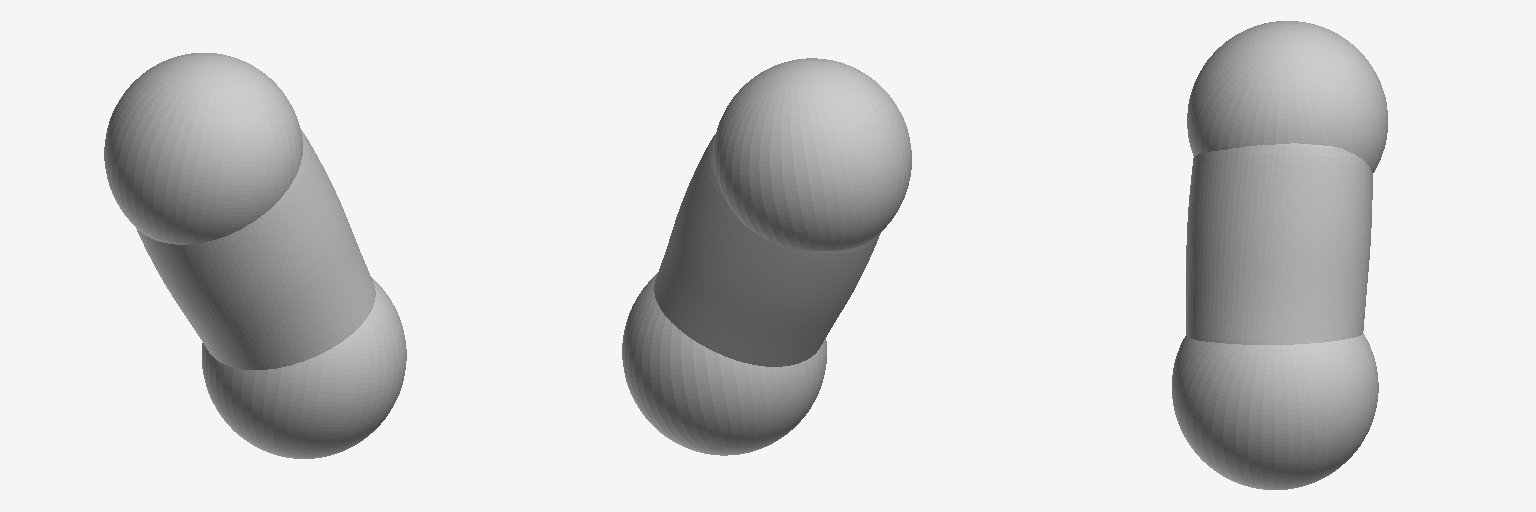
The model's file is uplegL.obj.
3 renders of one model, left to right at view 1: azimuth 30°, elevation 25°; view 2: azimuth 150°, elevation 25°; view 3: azimuth 270°, elevation 25°, orthographic.
Visible parts, largest first — view 1: uploads_files_[number redacted]_Guts_man:Mesh polySurface4, uploads_files_[number redacted]_Guts_man:Mesh polySurface1, polySurface18 uploads_files_[number redacted]_Guts_man:Mesh; view 2: uploads_files_[number redacted]_Guts_man:Mesh polySurface4, uploads_files_[number redacted]_Guts_man:Mesh polySurface1, polySurface18 uploads_files_[number redacted]_Guts_man:Mesh; view 3: uploads_files_[number redacted]_Guts_man:Mesh polySurface1, polySurface18 uploads_files_[number redacted]_Guts_man:Mesh, uploads_files_[number redacted]_Guts_man:Mesh polySurface4.
Part boxes in pixels (x1,y1,x2,y2): uploads_files_[number redacted]_Guts_man:Mesh polySurface4: (104, 53, 302, 244); uploads_files_[number redacted]_Guts_man:Mesh polySurface1: (136, 128, 375, 369); polySurface18 uploads_files_[number redacted]_Guts_man:Mesh: (202, 277, 406, 458); uploads_files_[number redacted]_Guts_man:Mesh polySurface4: (713, 58, 911, 250); uploads_files_[number redacted]_Guts_man:Mesh polySurface1: (654, 134, 880, 366); polySurface18 uploads_files_[number redacted]_Guts_man:Mesh: (622, 273, 826, 455); uploads_files_[number redacted]_Guts_man:Mesh polySurface1: (1186, 143, 1372, 344); polySurface18 uploads_files_[number redacted]_Guts_man:Mesh: (1172, 333, 1378, 489); uploads_files_[number redacted]_Guts_man:Mesh polySurface4: (1187, 21, 1387, 172).
Size of the model in its own units: 0.3367 by 0.4859 by 0.2353.